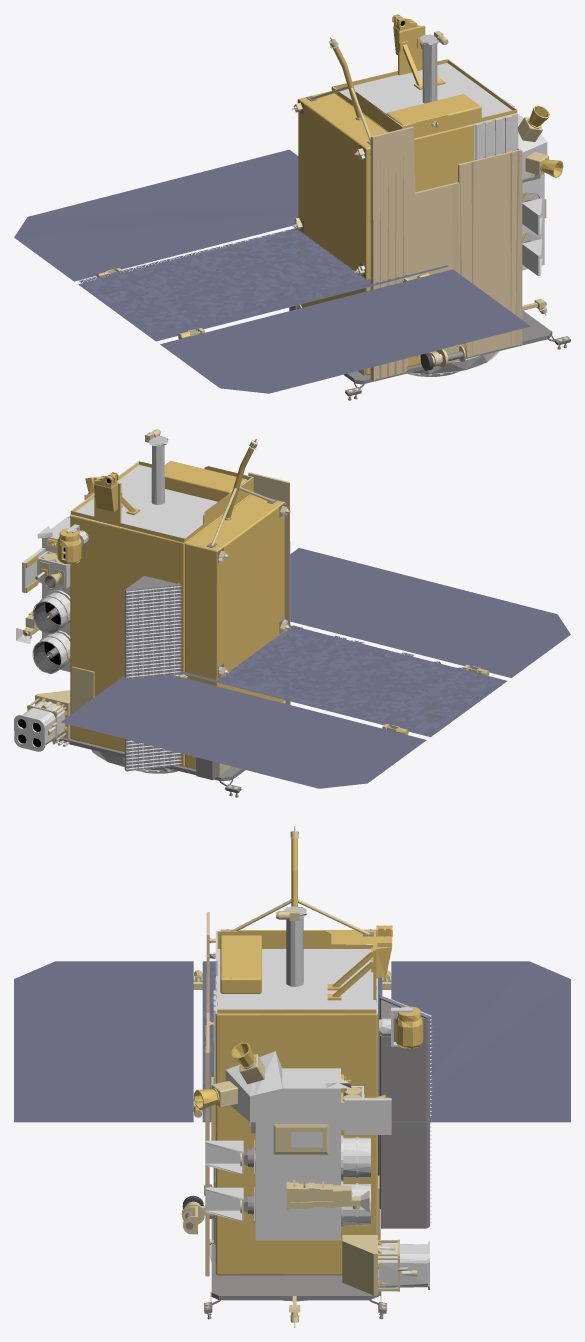
The model's file is lro.glb.
3 renders of one model, top to bottom at view 1: azimuth 30°, elevation 25°; view 2: azimuth 150°, elevation 25°; view 3: azimuth 270°, elevation 25°, orthographic. The views are drawn at different scales.
Parts seen in each view (by area): view 1: Layer_4, Layer_0; view 2: Layer_4, Layer_0; view 3: Layer_0, Layer_4.
Part boxes in pixels (x1,y1,x2,y2): Layer_4: (14, 149, 530, 393); Layer_0: (289, 14, 570, 400); Layer_4: (61, 548, 570, 788); Layer_0: (14, 429, 290, 797); Layer_0: (181, 826, 431, 1327); Layer_4: (14, 961, 570, 1122).
Bounding box in the file's own units: 33.22 × 26.28 × 32.26.
